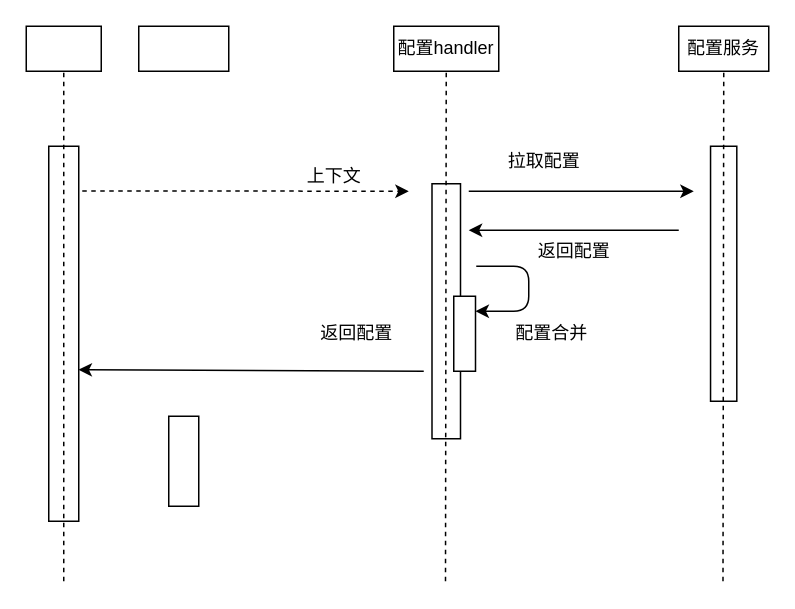
Some shapes in this 795 by 609 pixel diagram are drawn without their labels. The shapes that lost their labels are listed below. From the top down, each one's centre as x and y in pixels, then its label:
At point 63,48: "view".
At point 183,48: "数据层".
